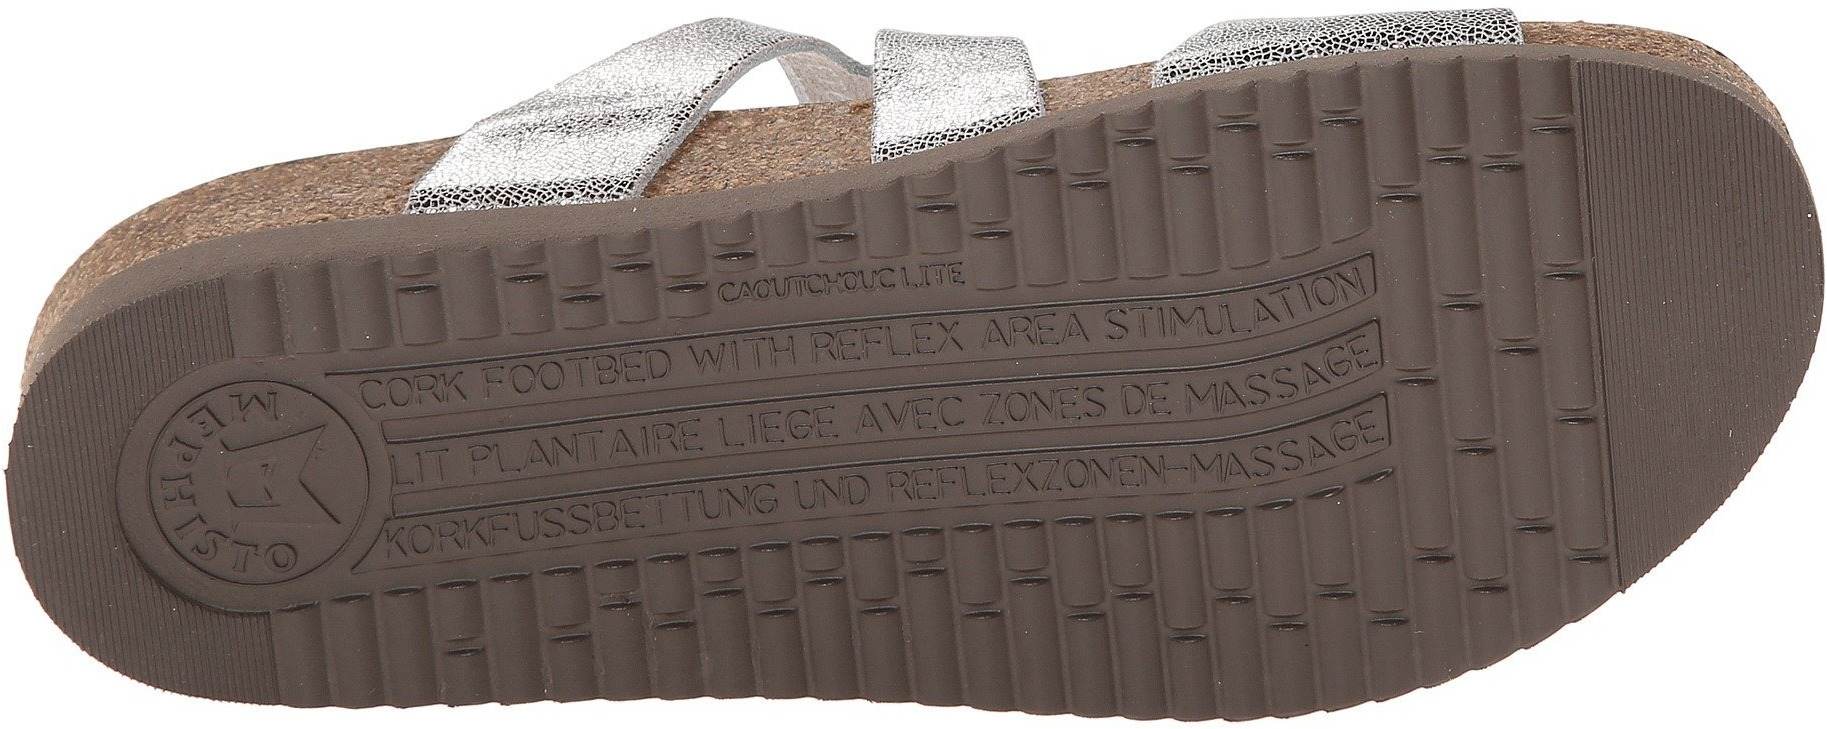circle: (135, 375, 367, 590)
other: (1600, 139, 1810, 354), (1624, 359, 1750, 488)
quad: (1397, 396, 1601, 609), (1161, 526, 1352, 713), (1396, 119, 1576, 305), (854, 543, 1031, 709), (1128, 111, 1284, 283), (647, 544, 811, 686)
text: (135, 375, 367, 590), (1106, 285, 1319, 508), (828, 312, 1050, 521), (386, 371, 597, 550), (773, 261, 969, 439), (625, 345, 798, 532), (146, 448, 246, 554)
